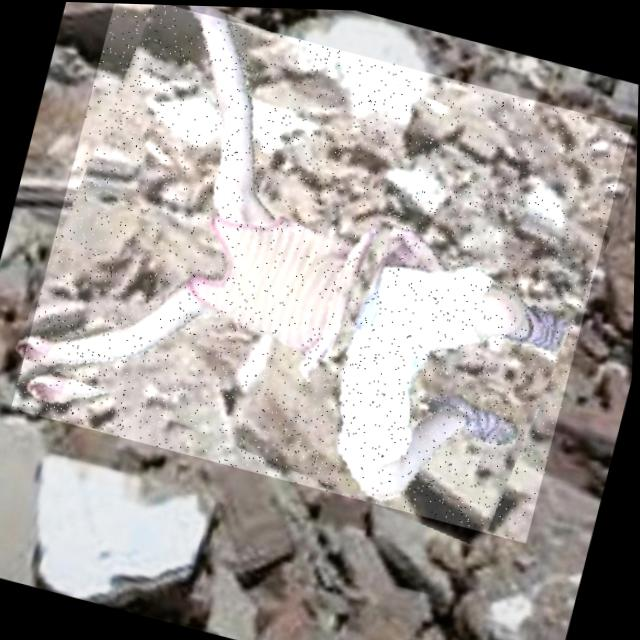Person in Rubble: (11, 0, 635, 542)
